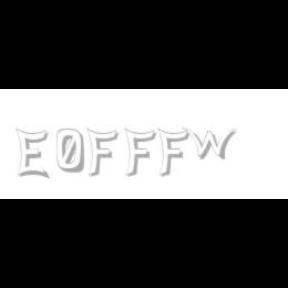0: (56, 128, 88, 174)
E: (15, 128, 48, 180)
F: (86, 128, 118, 178), (124, 128, 156, 178), (157, 128, 189, 178)
w: (182, 128, 242, 160)
